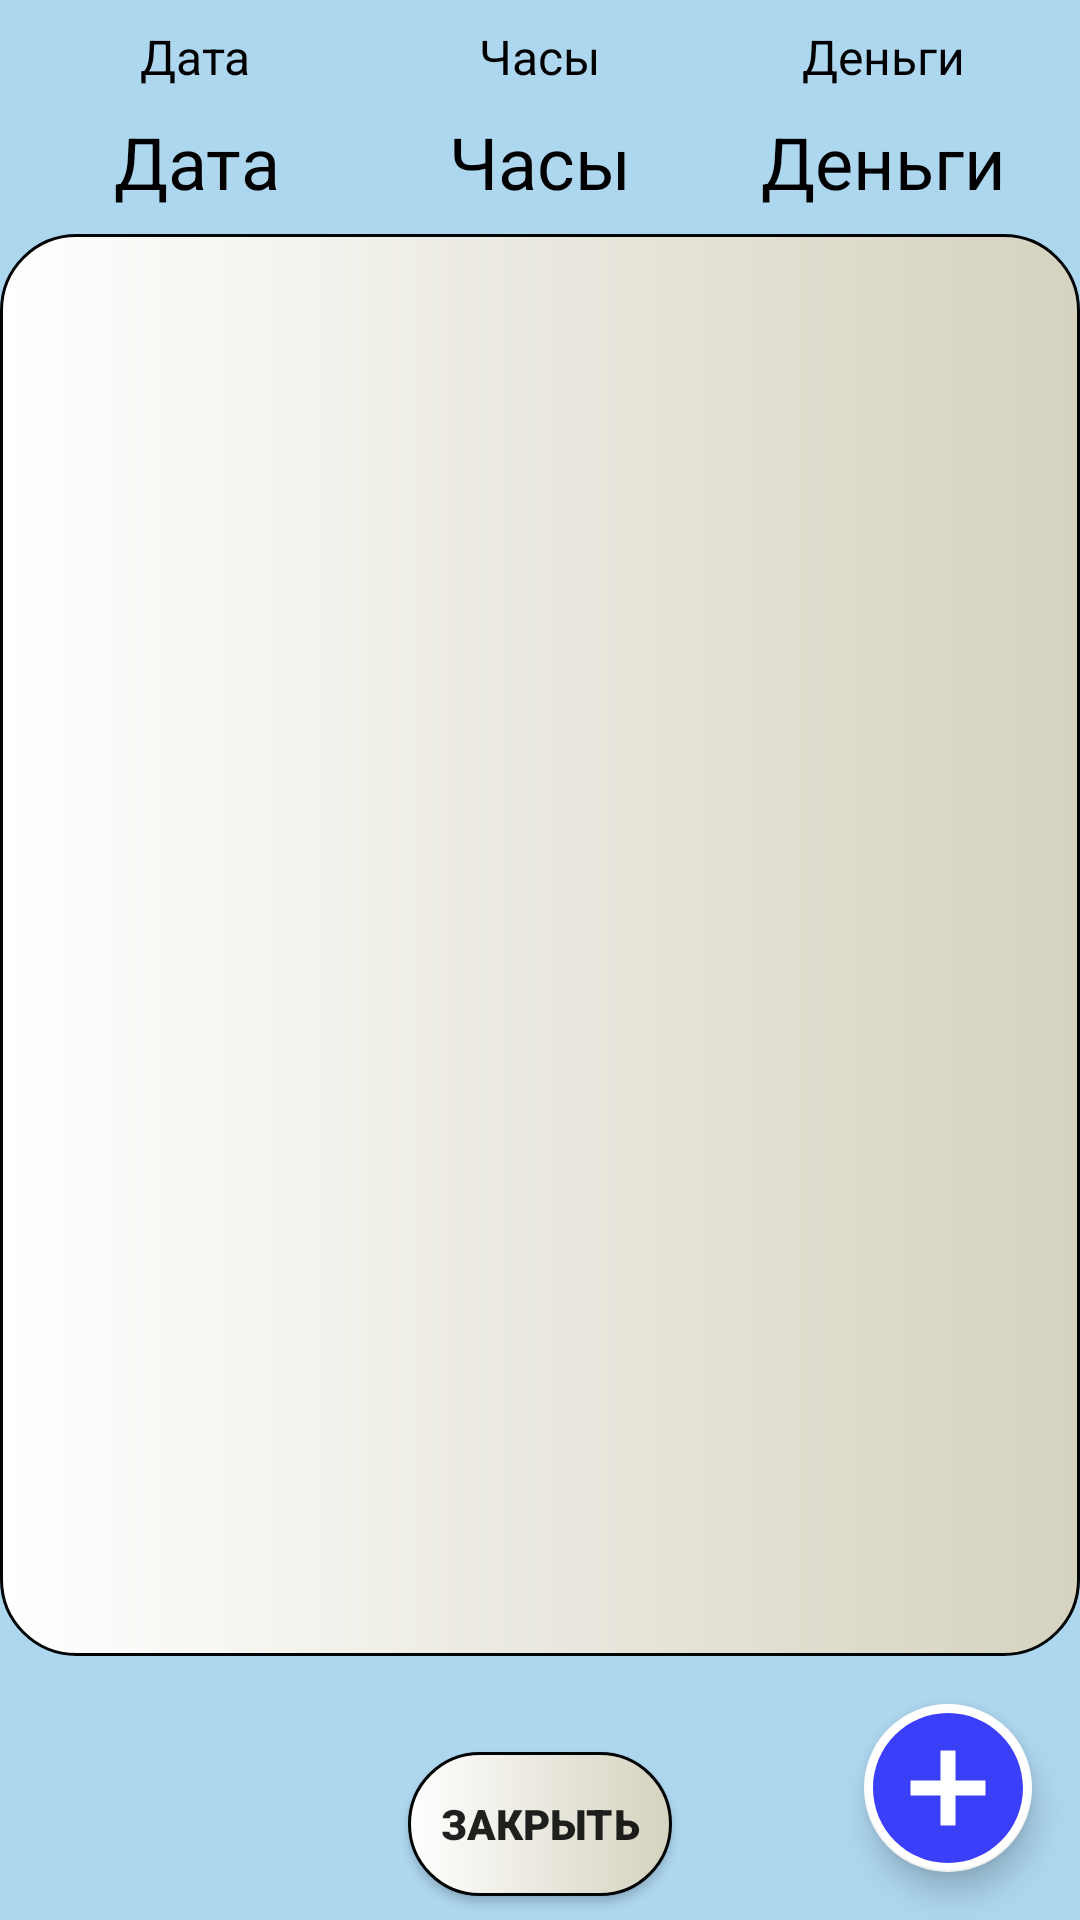

Icons on this 1080x1920 Android screen, each with the point to tap as (x=x, y=y):
add circle: (x=948, y=1788)
